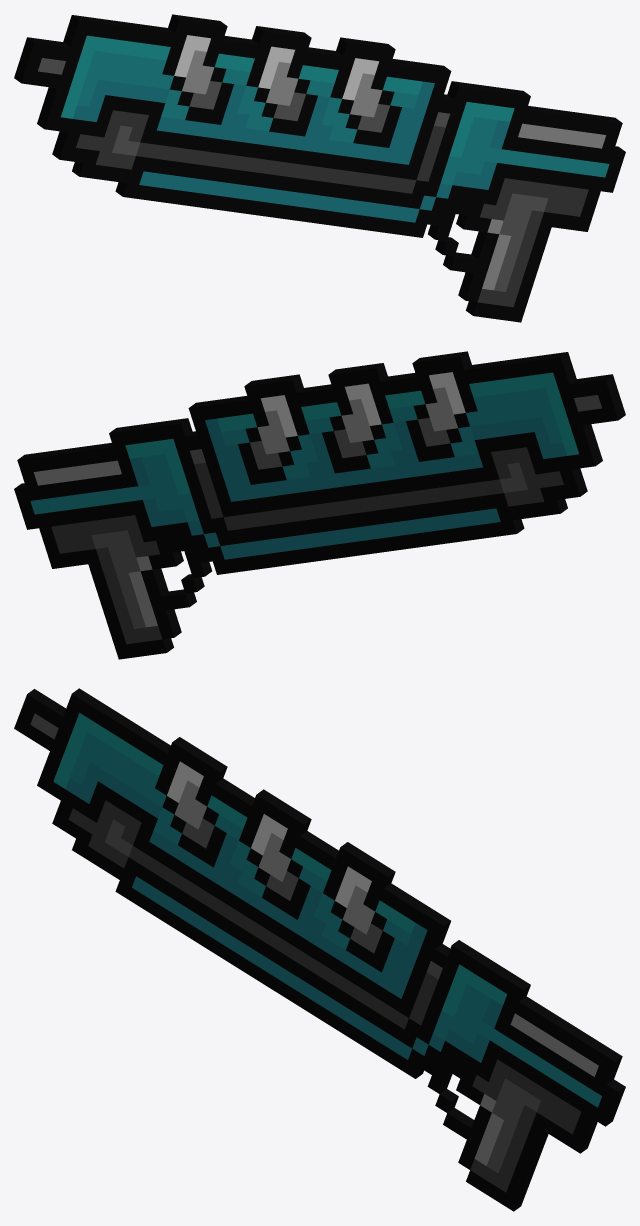
The model's file is Cyan Paintball Gun.glb.
3 renders of one model, top to bottom at view 1: azimuth 30°, elevation 25°; view 2: azimuth 150°, elevation 25°; view 3: azimuth 330°, elevation 25°, orthographic.
Parts seen in each view (by area): view 1: Untitled; view 2: Untitled; view 3: Untitled.
Boxes of the visible parts, left/top/right/bottom form: Untitled: left=14, top=14, right=625, bottom=322; Untitled: left=14, top=351, right=625, bottom=659; Untitled: left=14, top=688, right=625, bottom=1211.
Bounding box in the file's own units: 18.93 × 12.27 × 0.4.
1 material, 1 textured.
